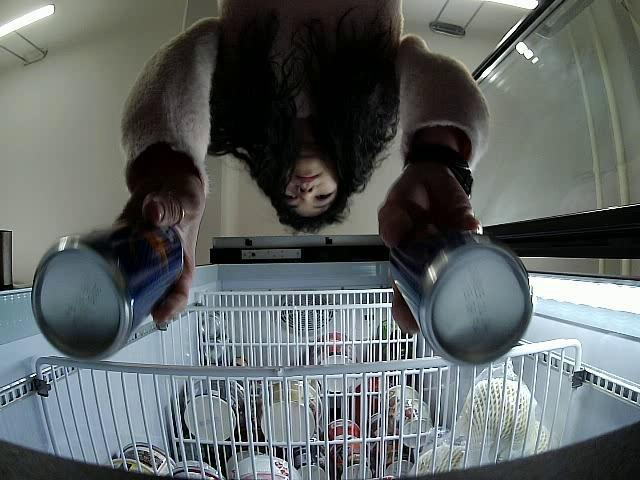16_hot6: (31, 215, 186, 362), (386, 218, 533, 367)
